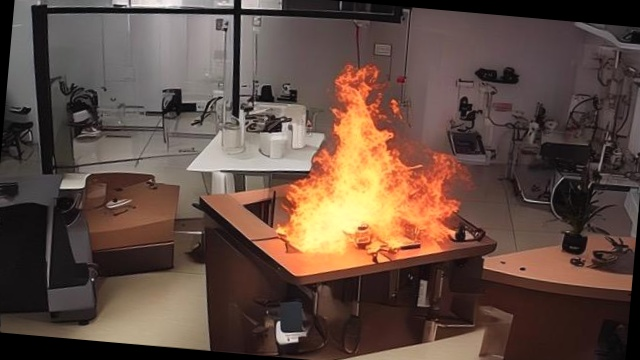fire: (266, 51, 478, 274)
